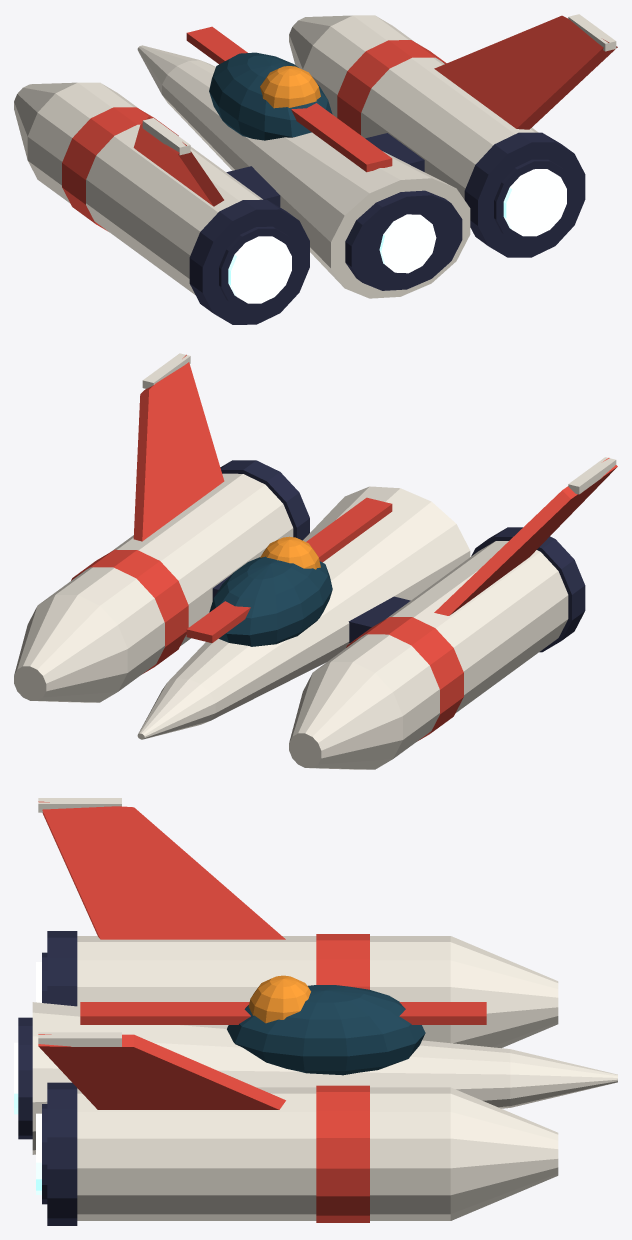
The model's file is faisca.glb.
3 renders of one model, top to bottom at view 1: azimuth 30°, elevation 25°; view 2: azimuth 150°, elevation 25°; view 3: azimuth 270°, elevation 25°, orthographic. The views are drawn at different scales.
Visible parts, largest first — view 1: faisca; view 2: faisca; view 3: faisca.
Part boxes in pixels (box(x1,y1,x2,y2)): faisca: box(14, 14, 617, 324); faisca: box(14, 353, 617, 769); faisca: box(14, 798, 617, 1225).
Size of the model in its own units: 4.8 by 2.09 by 5.06.
